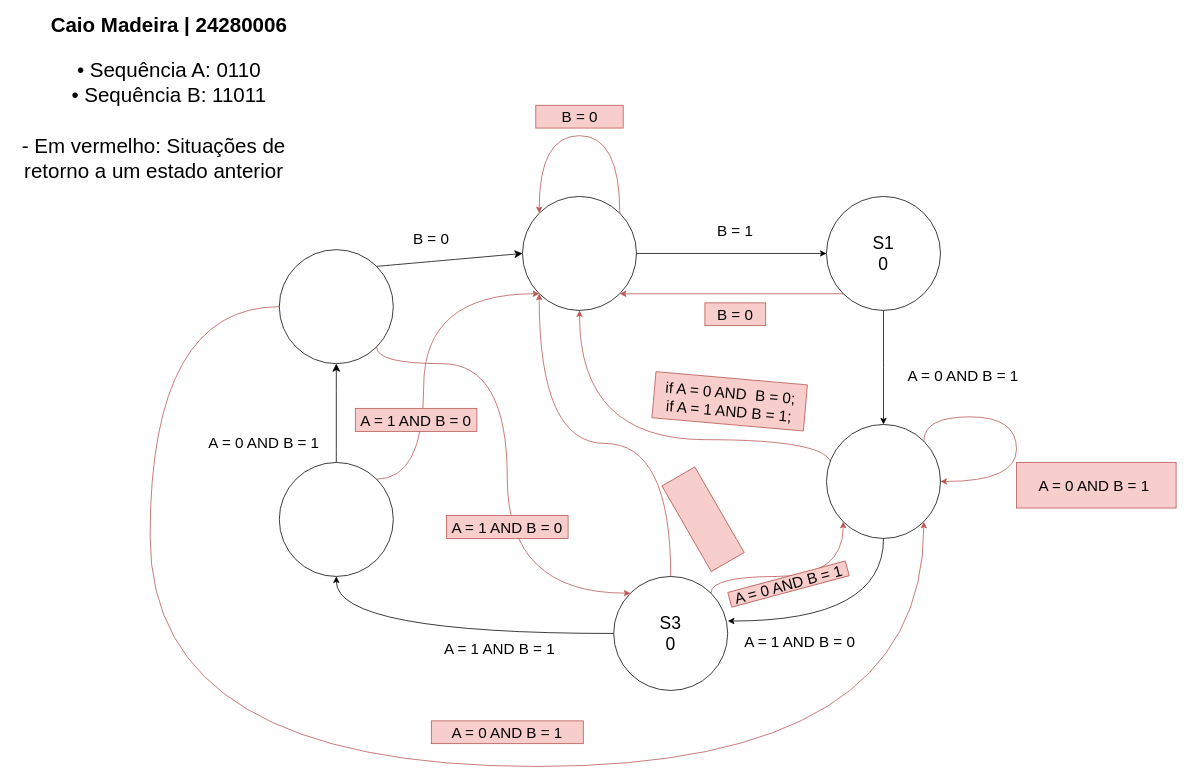
Image size: 1189x780. Some labels were removed from this diagram. Here are the shapes that lost their labels. From the top down, the centre of each, then its label:
At pixel 579 253: "S0 (idle) 0".
At pixel 336 306: "S5 1".
At pixel 883 481: "S2 0".
At pixel 336 519: "S4 0".
At pixel 702 519: "A = 1 AND B = 0; A = 0 AND B = 0;".
